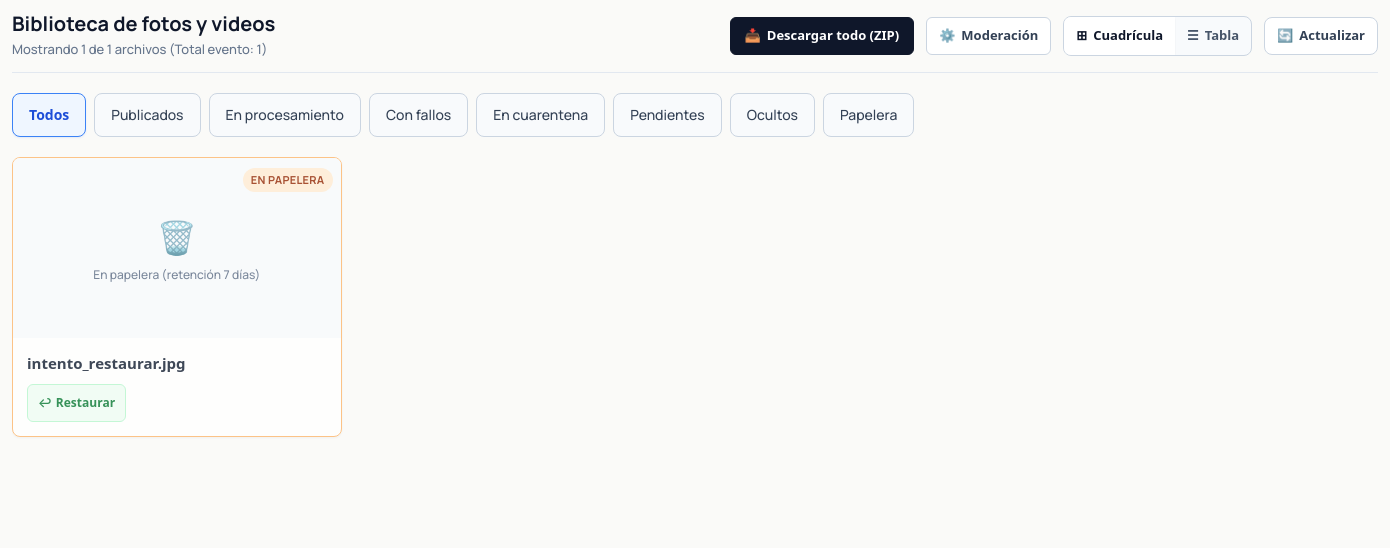
Test case: OrganizerMediaLibraryComponent & Media Integration (EL-TK-100) › EL-TK-111 Moderation and Trash Integration › Escenario 5: Maneja error RESTORE_WINDOW_EXPIRED comunicando la regla al organizador
Click the button with class "btn-restore": (77, 403) [27,384,126,422]
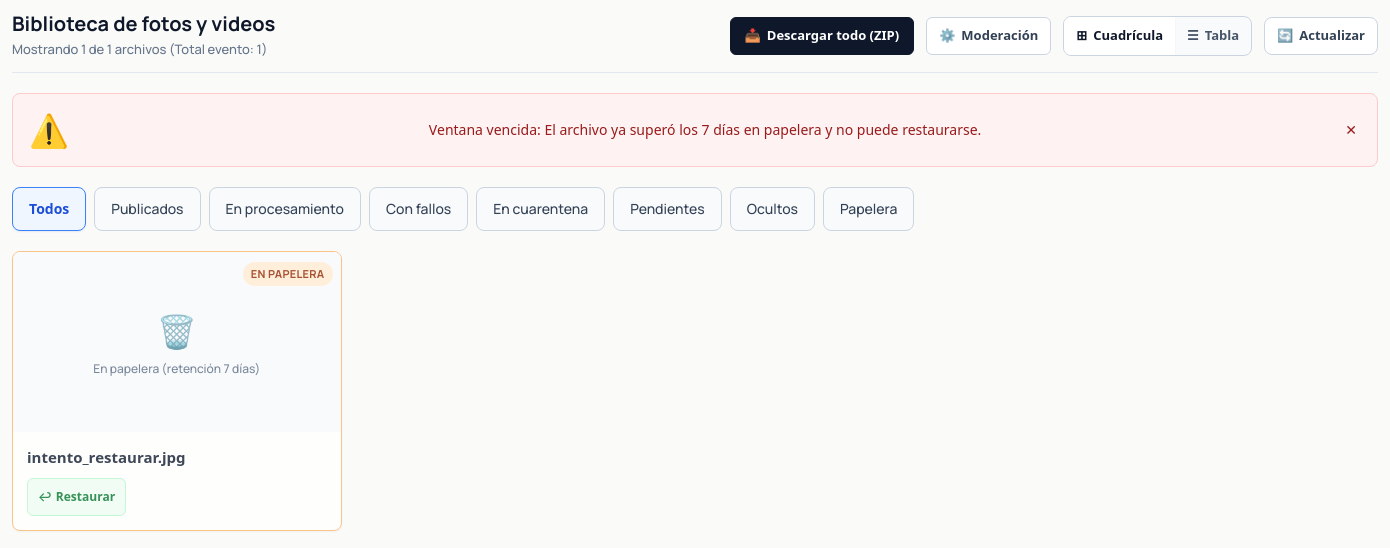
Check: the message with class "alert-danger" is shown, box [12,92,1378,166]
Check: the message with class "alert-danger" shows "Ventana vencida: El archivo ya superó los 7 días en papelera y no puede restaurarse.", box [429,120,981,139]
